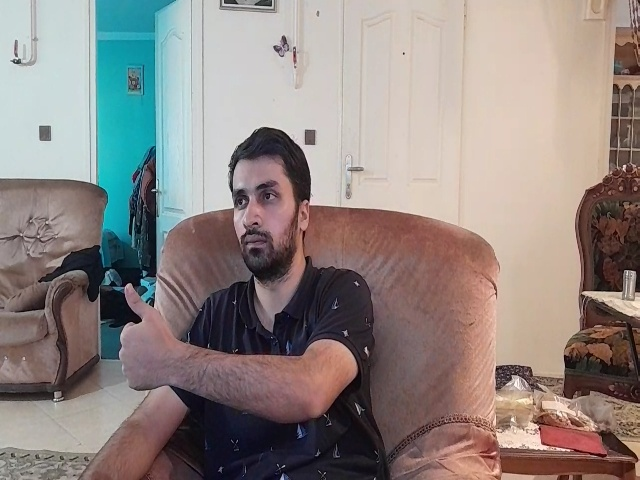ThumbsUp: (118, 281, 179, 393)
